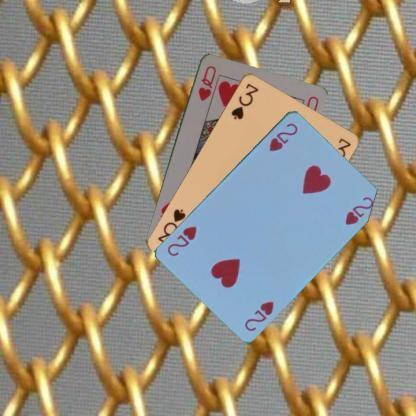2h: (242, 298, 276, 332), (266, 120, 300, 152)
3s: (228, 80, 260, 121)
Qh: (196, 62, 218, 102)
